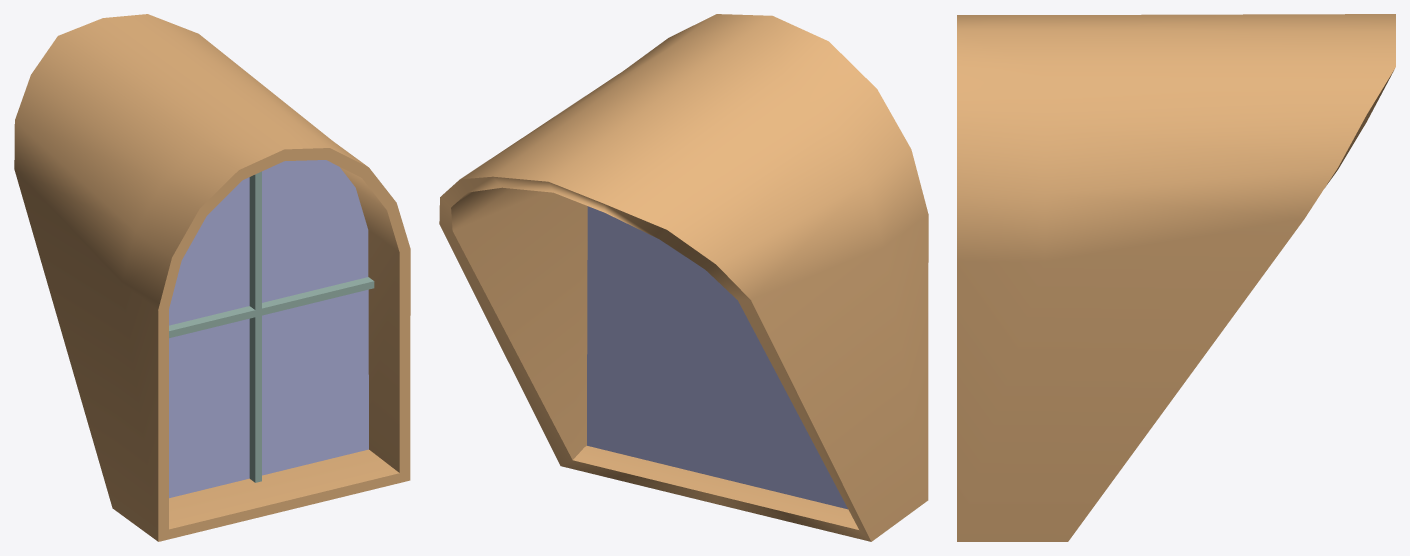
The model's file is SP_House02_Window02.fbx.
3 renders of one model, left to right at view 1: azimuth 30°, elevation 25°; view 2: azimuth 150°, elevation 25°; view 3: azimuth 270°, elevation 25°, orthographic. The views are drawn at different scales.
Visible parts, largest first — view 1: SP_House02_Window02; view 2: SP_House02_Window02; view 3: SP_House02_Window02.
Part boxes in pixels (box(x1,y1,x2,y2)): SP_House02_Window02: box(14, 14, 410, 541); SP_House02_Window02: box(439, 14, 928, 541); SP_House02_Window02: box(957, 14, 1395, 541).
Size of the model in its own units: 1.38 by 1.9 by 1.72.
